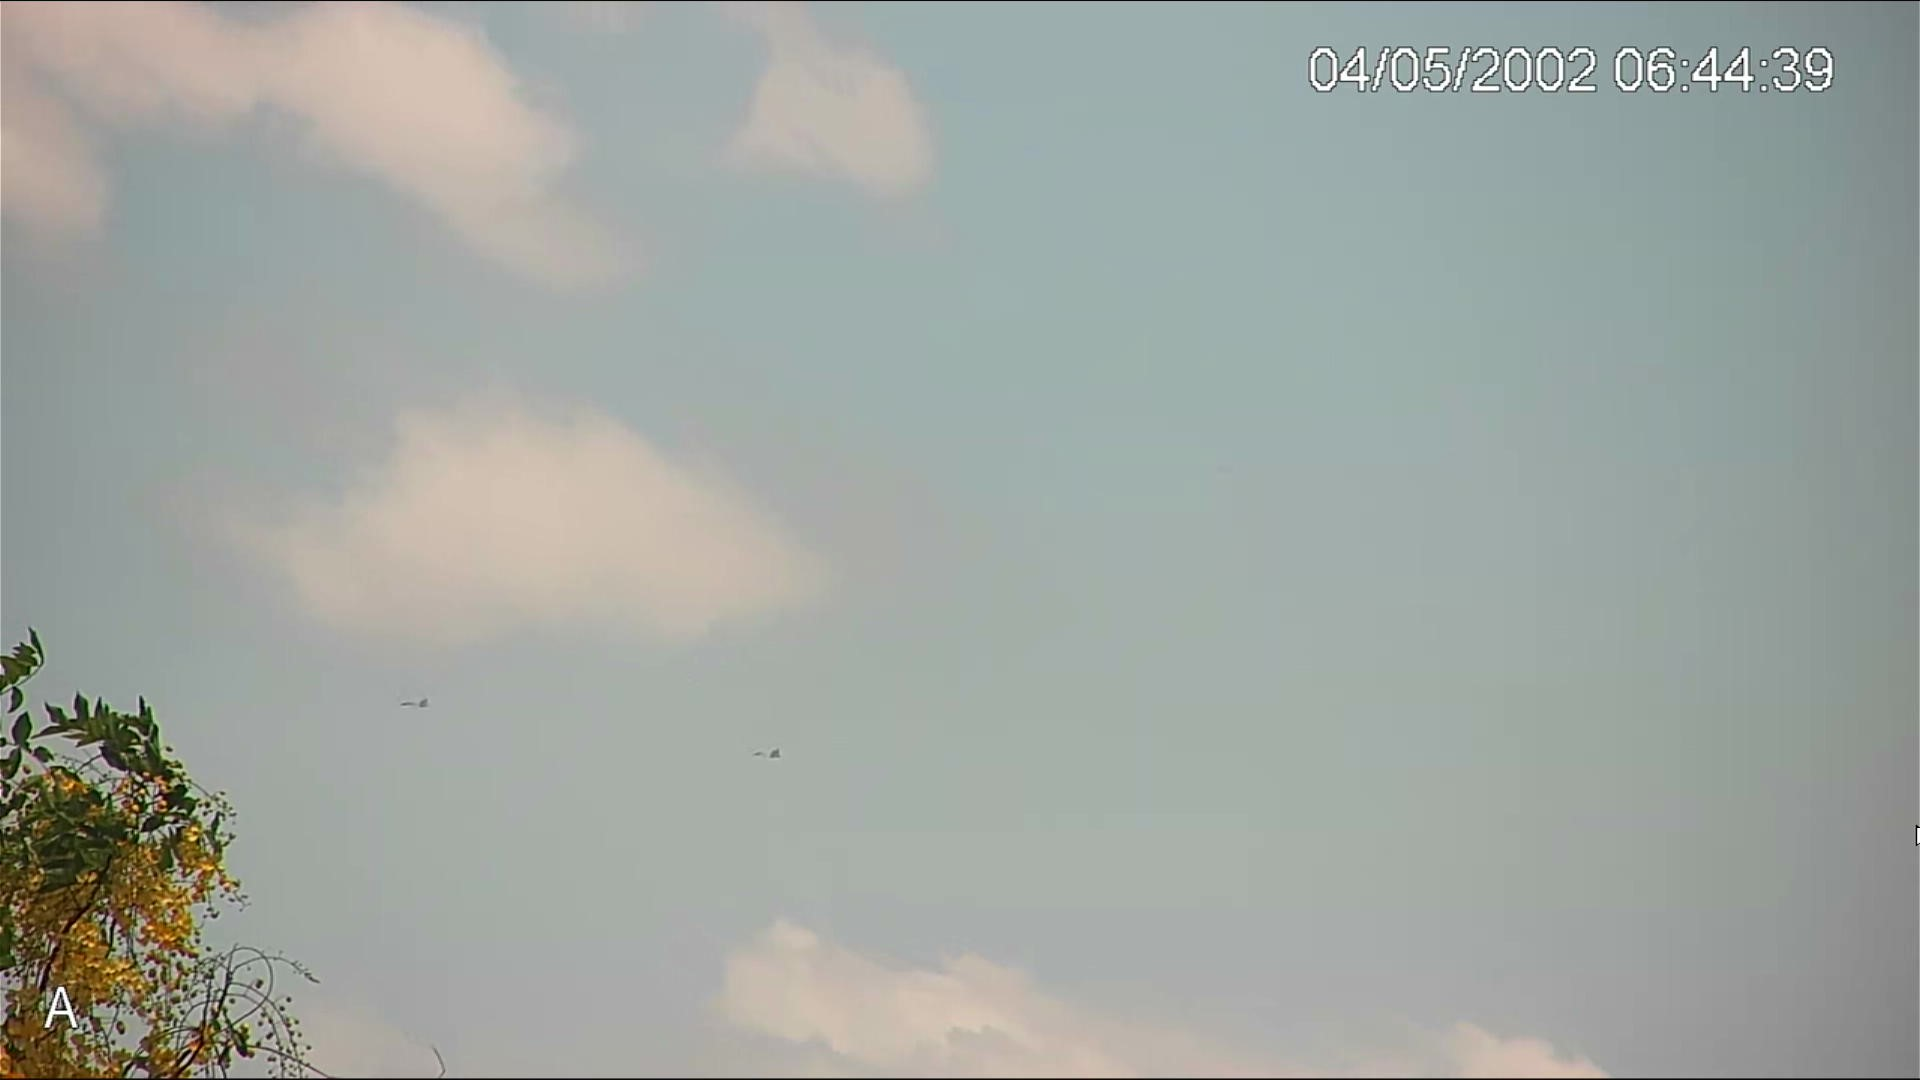SU_30: (394, 694, 434, 713), (752, 746, 782, 761)
